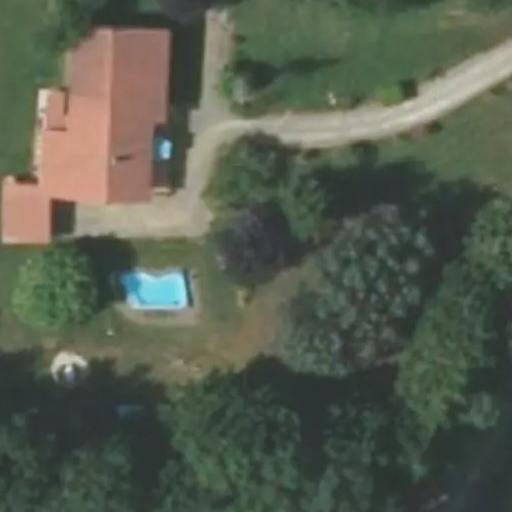pool: (223, 232, 288, 252)
